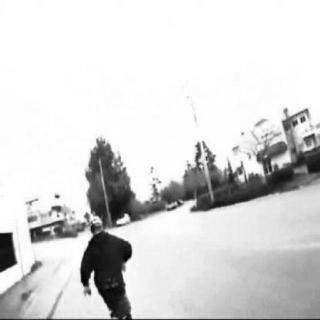other: (30, 234, 82, 257)
